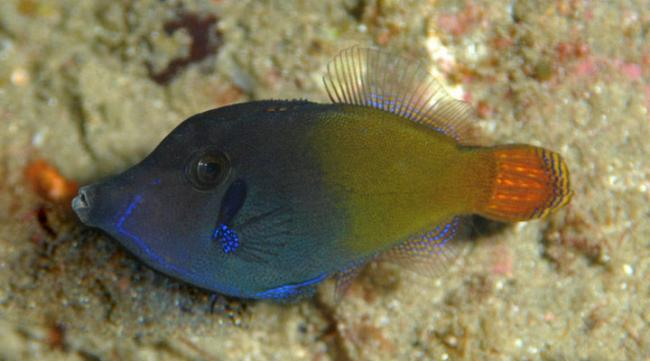fish: (72, 46, 575, 301)
